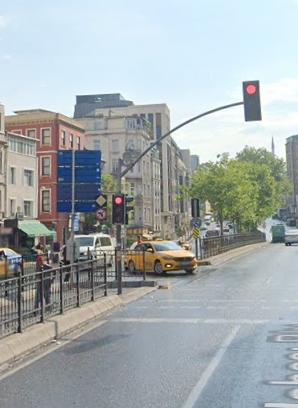leftturnsareforbidden: (96, 208, 108, 220)
redlight: (113, 196, 124, 221)
